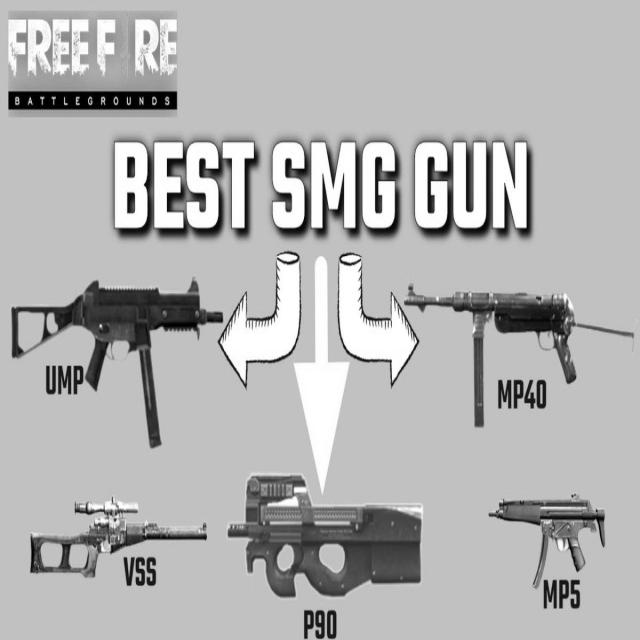Sub-machine-gun: (11, 270, 223, 462), (400, 275, 638, 438), (230, 472, 427, 618), (485, 482, 607, 590)
